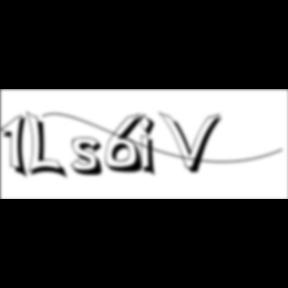1: (0, 114, 34, 182)
6: (106, 112, 150, 176)
L: (26, 110, 70, 182)
V: (160, 110, 226, 176)
i: (139, 112, 163, 180)
s: (72, 137, 110, 179)
